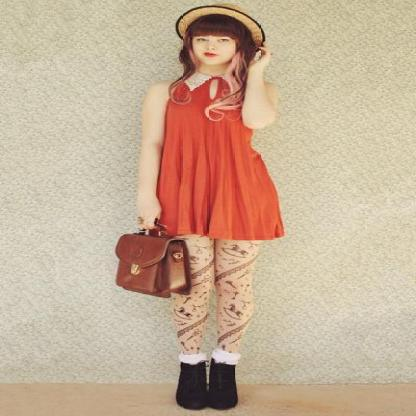bag: (115, 224, 200, 298)
dress: (153, 75, 283, 240)
hat: (175, 0, 261, 41)
pants: (175, 234, 268, 364)
shoe: (176, 358, 236, 410)
